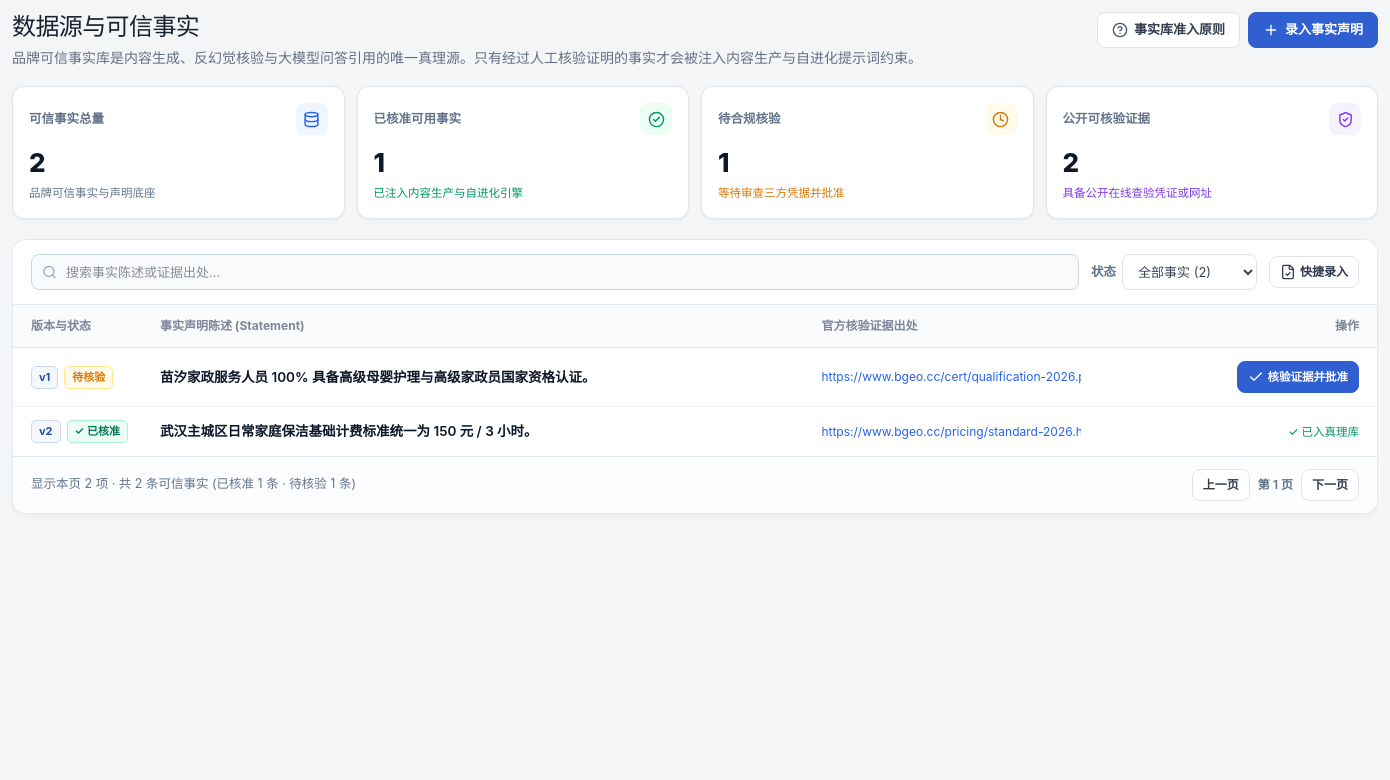
Test: SourcesView Component Redesign › toggles guidelines banner and filters facts by search query
The width and height of the screenshot is (1390, 780).
Expected: the text "事实库准入原则" is shown, x1=1134 y1=20 x2=1225 y2=40
# Toggle guidelines
Click the button "事实库准入原则". click: (1168, 30)
box: x1=1097 y1=12 x2=1240 y2=48
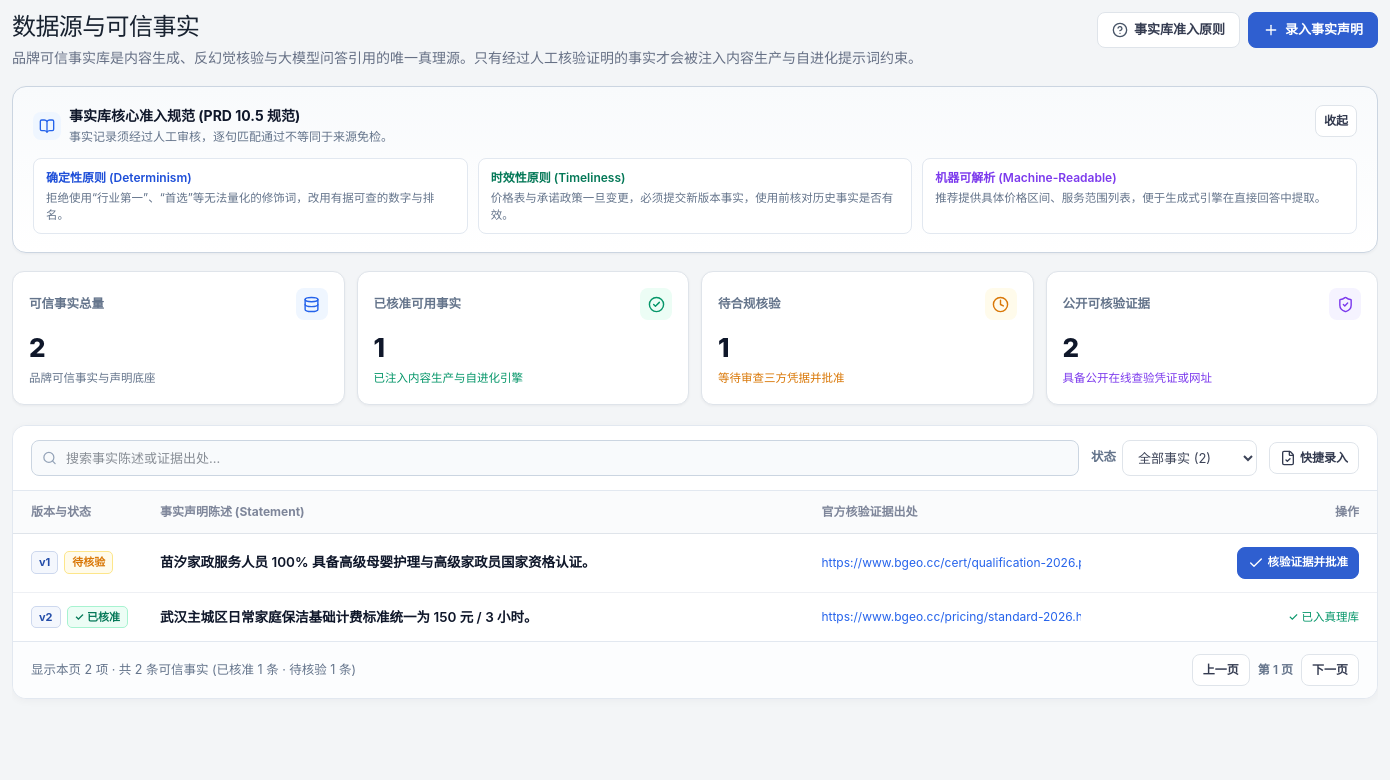
Result: the heading "事实库核心准入规范 (PRD 10.5 规范)" is shown at x1=69 y1=107 x2=300 y2=124
Type "保洁基础计费" into the field with placeholder "搜索事实陈述或证据出处…". click: (555, 458)
box: x1=31 y1=440 x2=1079 y2=476
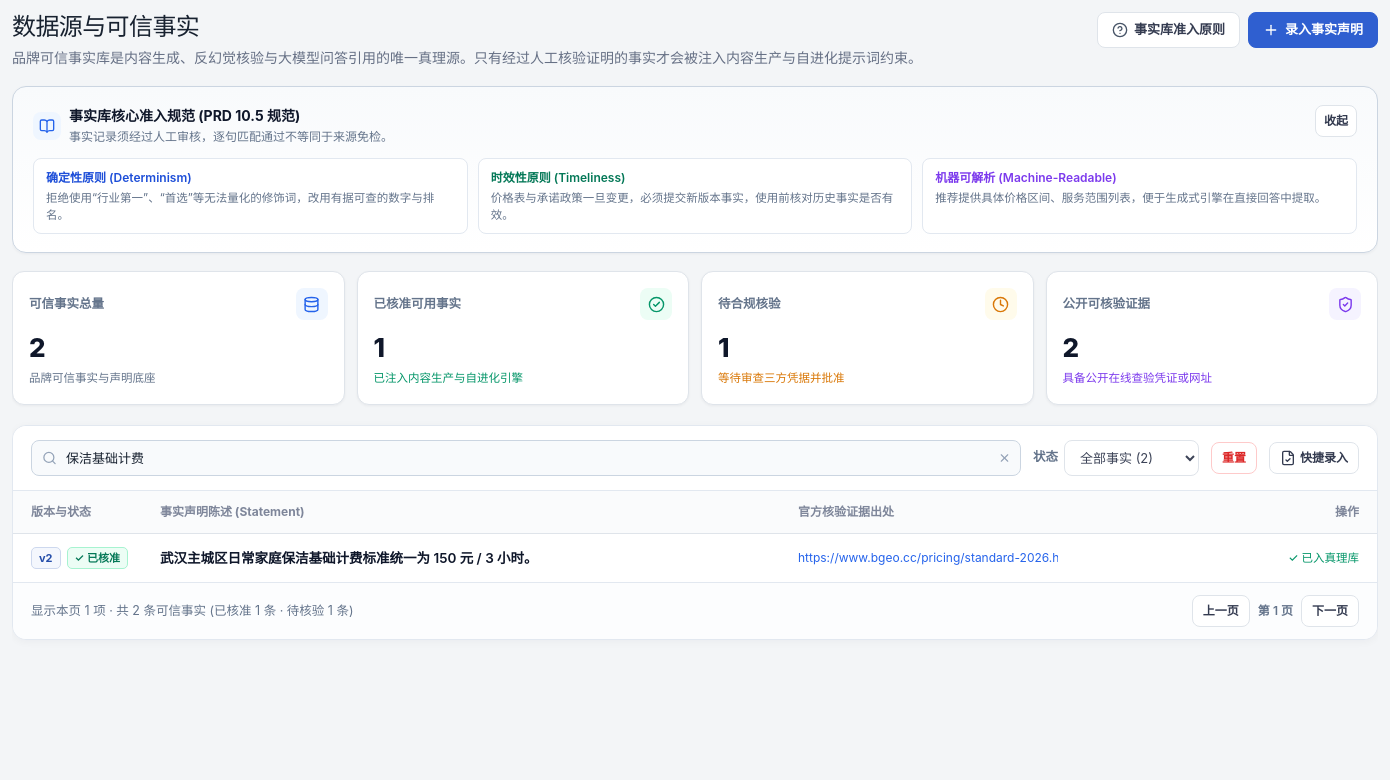
Expected: the text "武汉主城区日常家庭保洁基础计费标准统一为 150 元 / 3 小时。" is shown, x1=160 y1=550 x2=538 y2=566
Result: the text "高级母婴护理" is gone
